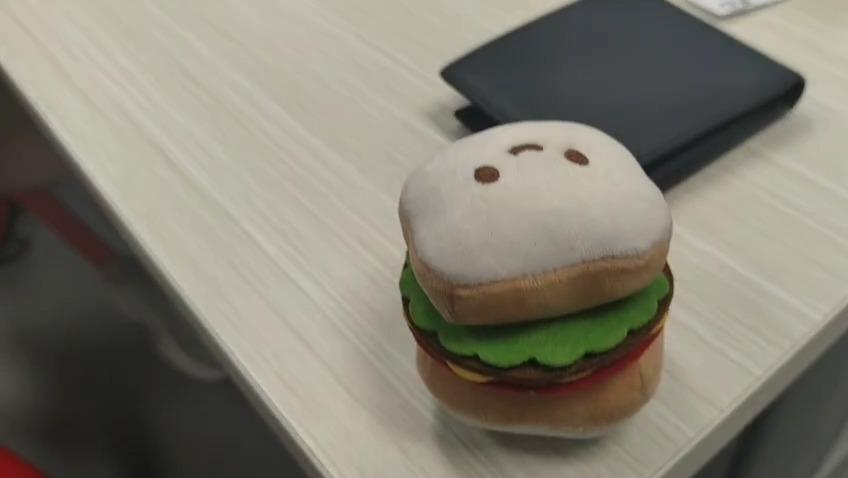objects: (399, 121, 674, 442)
